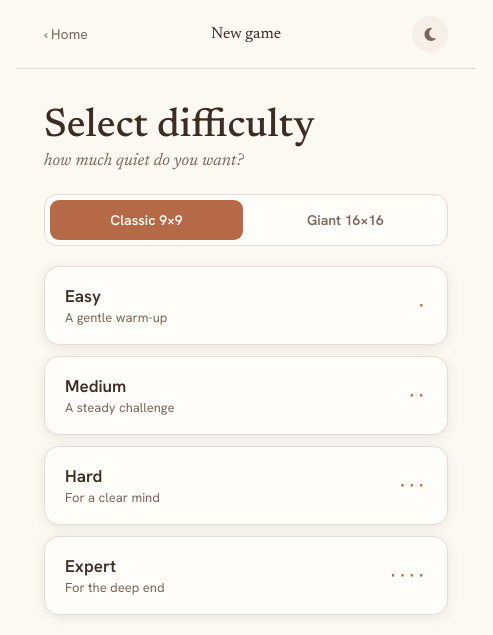
Test: SelectDifficultyPage › restores Hard and Expert when switching back to Classic 9x9
The width and height of the screenshot is (493, 635).
What coordinates should you click on to do the following:
click the button "Giant 16×16"
I would click on:
 (346, 220)
Its box is [249, 200, 442, 240].
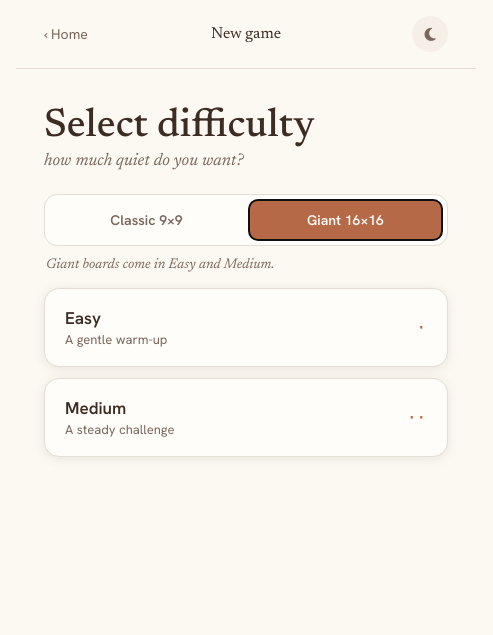
What coordinates should you click on to do the following:
click the button "Classic 9×9"
I would click on:
 (146, 220)
Its box is [50, 200, 243, 240].
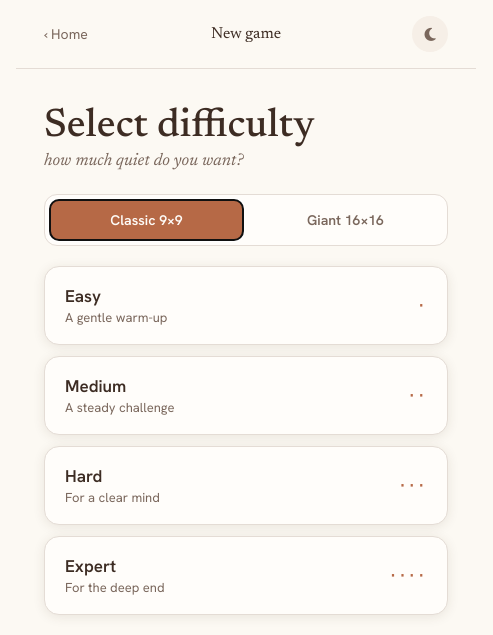
Check: the button "Hard For a clear mind ···" is shown, box [44, 446, 448, 525]
Check: the button "Expert For the deep end ····" is shown, box [44, 536, 448, 615]
